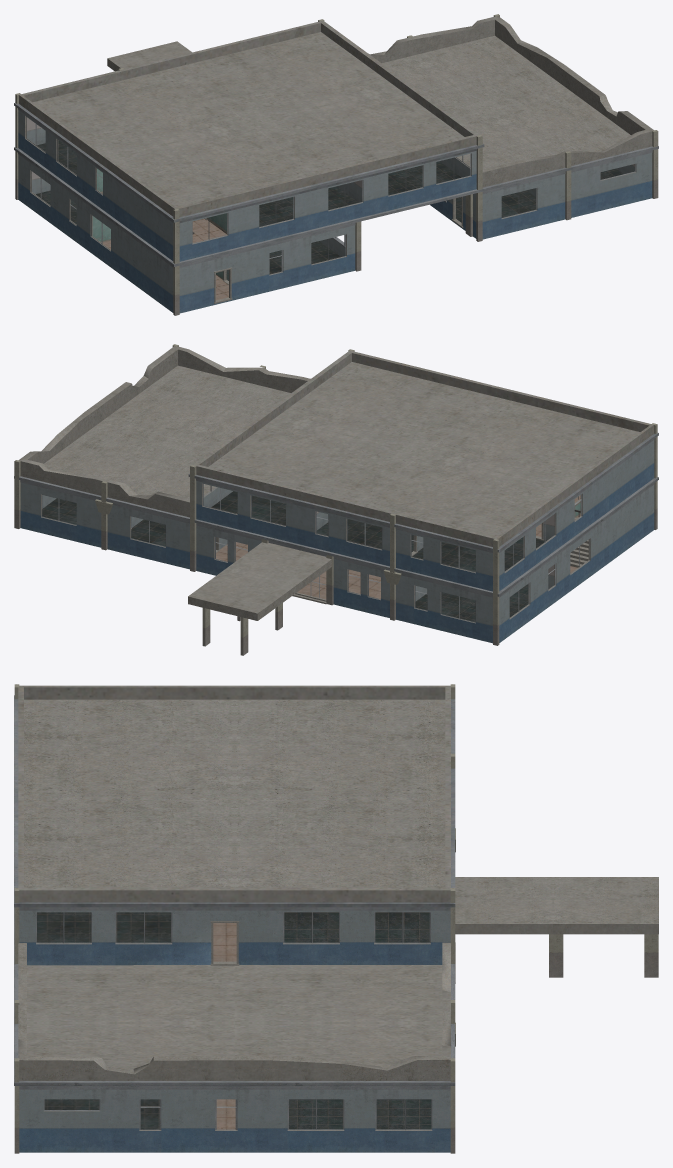
The model's file is Building_Jcj_2048_lod1.glb.
3 views of the same model, one above another, from view 1: azimuth 30°, elevation 25°; view 2: azimuth 150°, elevation 25°; view 3: azimuth 270°, elevation 25° (orthographic). The views are drawn at different scales.
Visible parts, largest first — view 1: xiutz_jcj_lod1; view 2: xiutz_jcj_lod1; view 3: xiutz_jcj_lod1.
Part boxes in pixels (x1,y1,x2,y2): xiutz_jcj_lod1: (14, 14, 658, 315); xiutz_jcj_lod1: (14, 344, 658, 655); xiutz_jcj_lod1: (14, 684, 658, 1153).
Size of the model in its own units: 50.26 by 10.85 by 42.
Materials: 1 (1 with a texture image).
